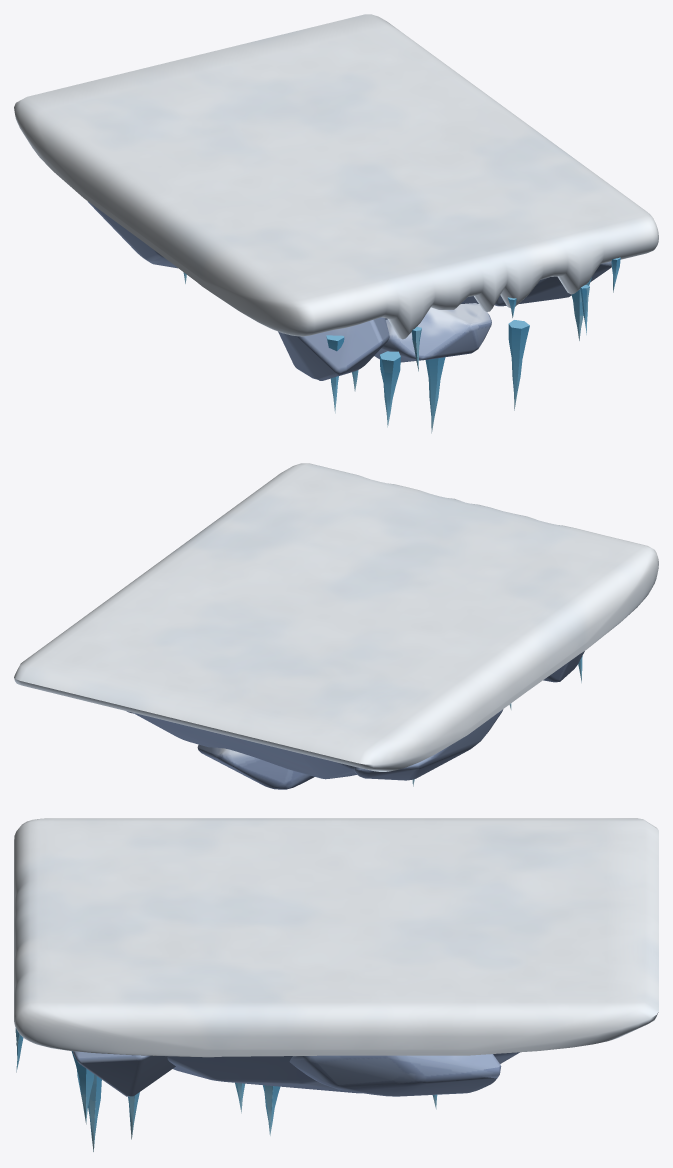
File: FP_T06_IceFloatingPlatform.fbx
3 renders of one model, top to bottom at view 1: azimuth 30°, elevation 25°; view 2: azimuth 150°, elevation 25°; view 3: azimuth 270°, elevation 25°, orthographic. The views are drawn at different scales.
Parts seen in each view (by area): view 1: SnowCap, Rock, Icicles; view 2: SnowCap, Rock; view 3: SnowCap, Rock, Icicles.
Boxes of the visible parts, <box> form: SnowCap: <box>14,14,658,371</box>; Rock: <box>87,201,611,380</box>; Icicles: <box>183,272,591,433</box>; SnowCap: <box>14,463,658,771</box>; Rock: <box>126,651,584,789</box>; SnowCap: <box>14,818,658,1072</box>; Rock: <box>72,1051,519,1096</box>; Icicles: <box>71,1051,437,1151</box>.
Size of the model in its own units: 3 by 1.56 by 3.99.
